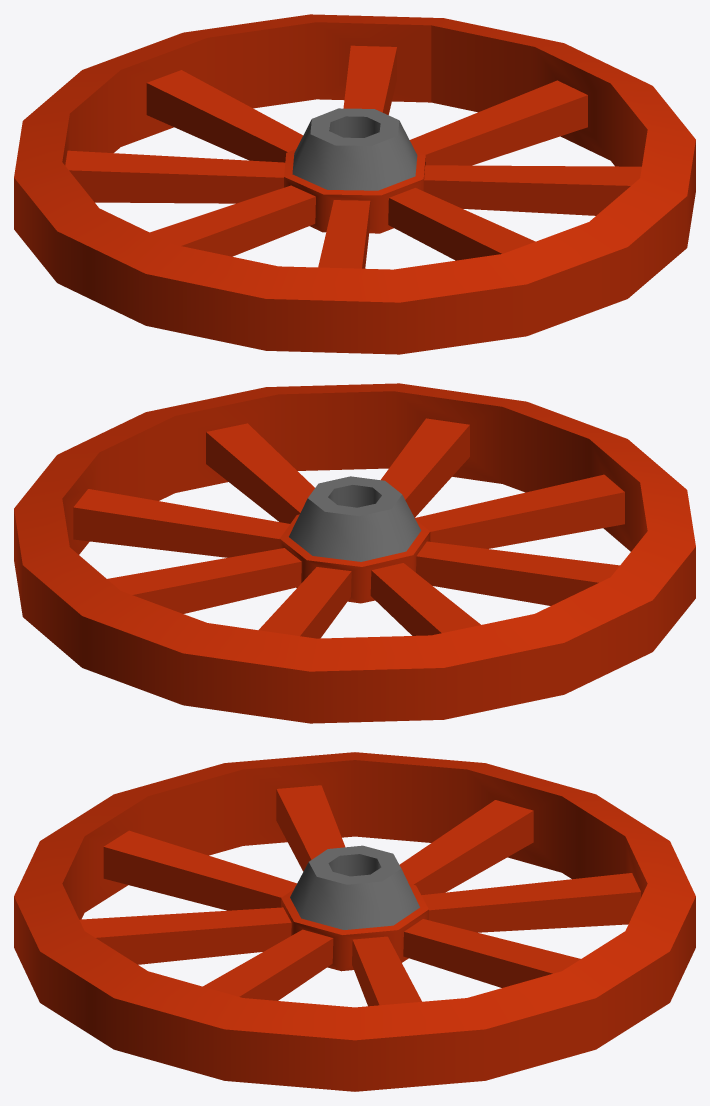
The model's file is wheel.fbx.
The picture shows the model from 3 angles, top to bottom: view 1: azimuth 30°, elevation 25°; view 2: azimuth 150°, elevation 25°; view 3: azimuth 270°, elevation 25°; orthographic projection.
Parts seen in each view (by area): view 1: wheel (2); view 2: wheel (2); view 3: wheel (2).
Boxes of the visible parts, x1,y1,x2,y2 form: wheel (2): [14, 14, 695, 354]; wheel (2): [14, 383, 695, 723]; wheel (2): [14, 752, 695, 1091].
Size of the model in its own units: 129 by 19.87 by 129.
